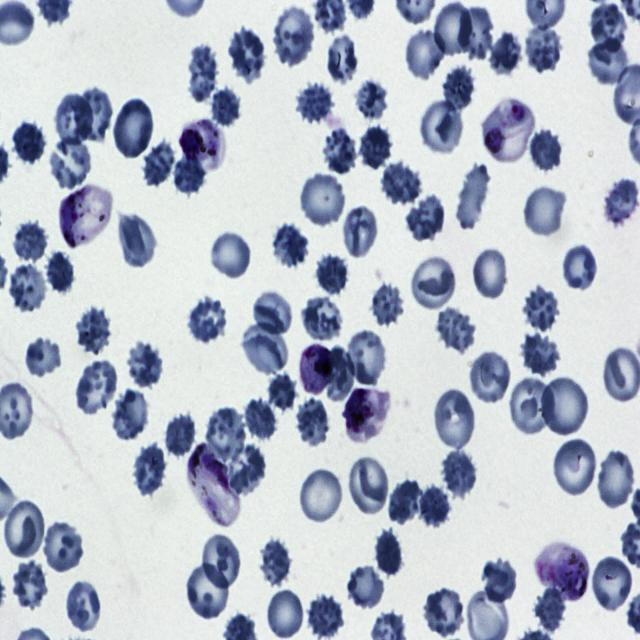difficult: (536, 542, 587, 602)
red blood cell: (540, 374, 590, 438), (239, 319, 290, 377), (552, 436, 598, 500), (184, 559, 232, 620), (433, 386, 477, 452), (298, 170, 348, 228), (510, 374, 555, 438), (298, 465, 344, 526), (2, 496, 46, 559), (74, 357, 120, 417), (344, 325, 388, 387), (113, 97, 156, 160), (348, 453, 390, 517), (590, 552, 634, 613), (418, 98, 464, 156), (204, 405, 246, 468), (200, 532, 244, 592), (596, 448, 637, 512), (409, 254, 454, 312), (272, 8, 314, 70), (456, 160, 494, 227), (523, 182, 568, 238), (468, 349, 512, 406), (42, 518, 86, 574), (300, 293, 346, 345), (223, 448, 269, 499), (50, 136, 92, 191), (422, 585, 467, 636), (54, 90, 94, 147), (117, 213, 157, 269), (74, 86, 114, 142), (522, 21, 564, 74), (227, 27, 267, 82), (211, 229, 252, 281), (130, 437, 166, 496), (252, 288, 294, 338), (7, 261, 48, 312), (472, 246, 509, 302), (111, 390, 154, 438), (64, 580, 102, 634), (406, 29, 446, 80), (125, 336, 165, 387), (479, 556, 518, 608), (434, 3, 472, 56), (376, 162, 425, 203), (320, 124, 360, 174), (204, 81, 243, 132), (326, 31, 362, 86), (486, 28, 524, 80), (404, 193, 446, 240), (588, 37, 630, 84), (342, 205, 378, 259), (458, 6, 493, 61), (10, 218, 50, 266), (265, 590, 305, 638), (256, 536, 292, 589), (188, 44, 219, 104), (347, 564, 387, 610), (603, 178, 640, 227), (436, 308, 476, 353), (591, 2, 627, 52), (12, 560, 49, 608), (308, 591, 344, 640), (294, 82, 335, 125), (188, 297, 227, 342), (313, 251, 351, 297), (520, 332, 560, 375), (240, 397, 278, 442), (372, 526, 404, 579), (165, 409, 198, 460), (523, 284, 558, 331), (326, 346, 355, 402), (272, 223, 308, 268), (297, 396, 329, 446), (564, 244, 598, 291), (76, 306, 110, 352), (443, 65, 475, 113), (46, 249, 78, 297), (143, 139, 175, 187), (442, 451, 476, 496), (370, 282, 405, 325), (360, 125, 392, 171), (532, 587, 566, 630), (25, 337, 60, 378), (391, 477, 422, 523), (13, 119, 45, 163), (529, 129, 562, 171), (420, 484, 452, 527), (174, 153, 206, 196), (354, 80, 388, 120), (266, 372, 296, 412)
schizont: (342, 386, 392, 442)
trophozoite: (188, 442, 240, 527), (482, 96, 536, 166), (60, 182, 114, 251), (180, 118, 228, 176), (298, 344, 336, 399)
